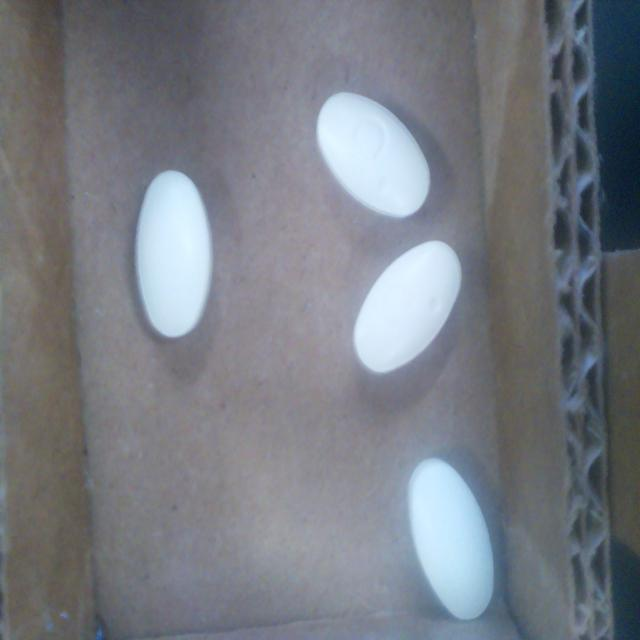pill: (354, 241, 462, 374), (316, 92, 430, 218), (409, 459, 494, 620), (135, 171, 213, 338)
